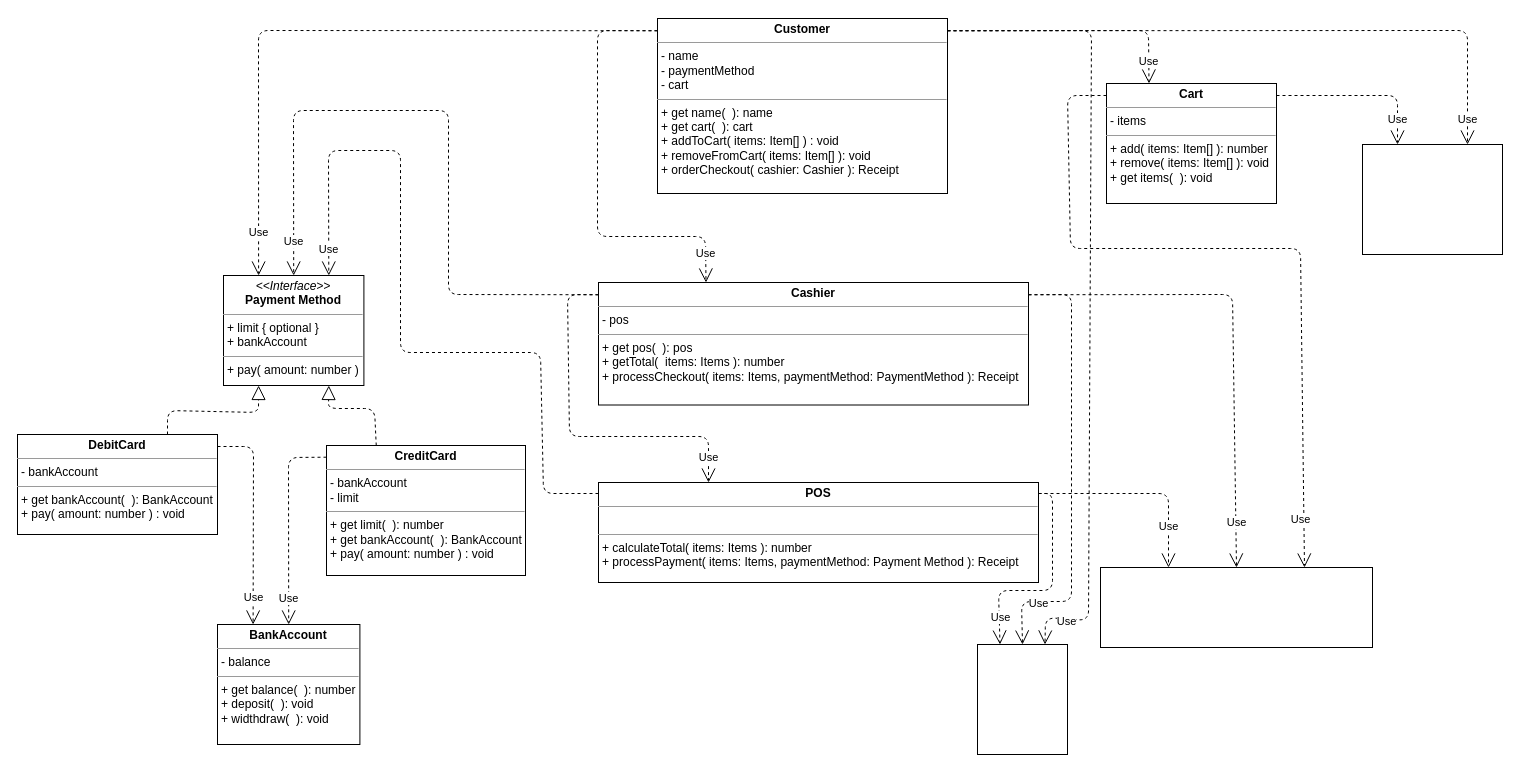
Image size: 1520x772. Some labels were removed from this diagram. Here are the shapes that lost their labels. From the top down, the centre of each, then its label:
point (1432, 199): Item - name - price + get name( ): string + get price( ): number
point (1236, 607): <<Interface>> Items + [key: string]: { price: number; quantity: number }
point (1022, 699): Receipt - items - total + print( ): void
